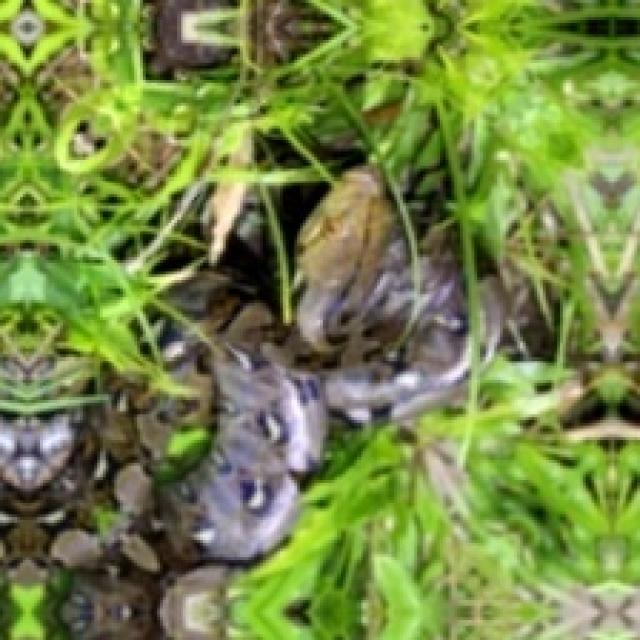reticulated python: (160, 166, 466, 560)
